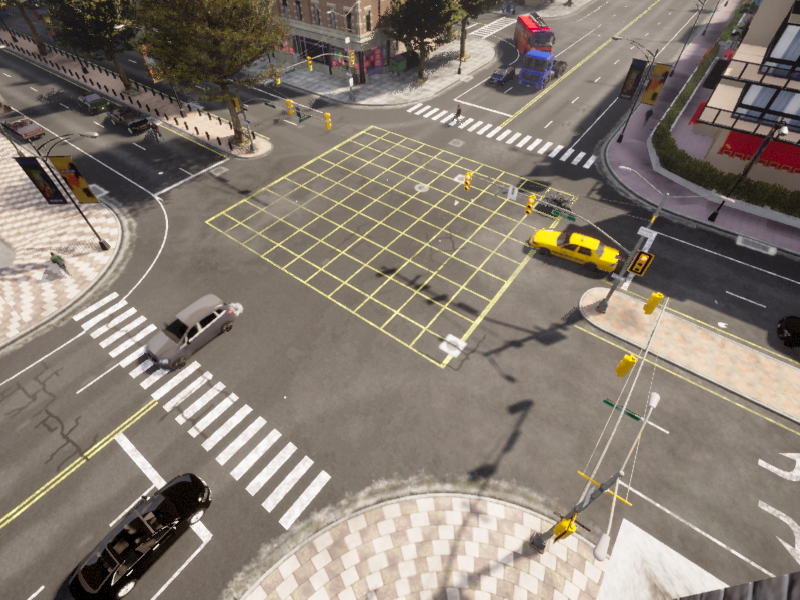vehicle: (123, 286, 239, 382), (522, 215, 620, 276), (100, 99, 157, 138), (534, 183, 573, 217), (144, 118, 171, 145)
